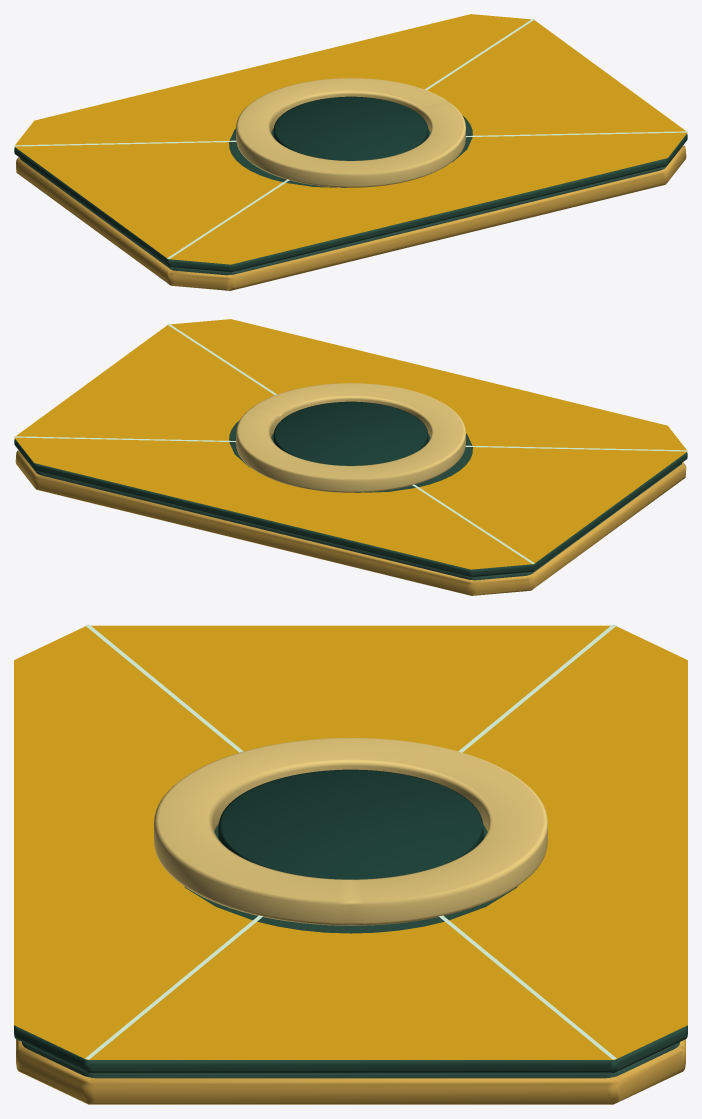
The model's file is neijiang_center_compass_v2.glb.
3 views of the same model, one above another, from view 1: azimuth 30°, elevation 25°; view 2: azimuth 150°, elevation 25°; view 3: azimuth 270°, elevation 25° (orthographic). The views are drawn at different scales.
Visible parts, largest first — view 1: DirectionActive2, DirectionActive0, DirectionActive1, DirectionActive3, CounterSingleGoldRing, CenterLowerGoldTrim, CounterNumberPlate, DirectionBase0, CenterRecessBed; view 2: DirectionActive0, DirectionActive1, DirectionActive2, DirectionActive3, CounterSingleGoldRing, CenterLowerGoldTrim, CounterNumberPlate, DirectionBase0, CenterRecessBed; view 3: DirectionActive0, DirectionActive2, DirectionActive1, DirectionActive3, CounterSingleGoldRing, CounterNumberPlate, CenterLowerGoldTrim, DirectionBase0, CenterRecessBed, DirectionSeparator1, DirectionSeparator2, DirectionSeparator0 (+1 smaller).
Boxes of the visible parts, x1,y1,x2,y2 form: DirectionActive2: (168,133,685,264); DirectionActive0: (15,14,531,145); DirectionActive1: (423,15,687,157); DirectionActive3: (15,121,282,263); CounterSingleGoldRing: (236,78,465,187); CenterLowerGoldTrim: (16,145,686,290); CounterNumberPlate: (273,96,428,160); DirectionBase0: (14,115,687,272); CenterRecessBed: (20,148,680,275); DirectionActive0: (14,437,533,569); DirectionActive1: (15,319,279,457); DirectionActive2: (175,319,686,450); DirectionActive3: (419,427,686,568); CounterSingleGoldRing: (236,383,465,492); CenterLowerGoldTrim: (15,450,686,595); CounterNumberPlate: (273,401,428,465); DirectionBase0: (14,420,687,577); CenterRecessBed: (21,453,681,580); DirectionActive0: (449,626,687,1059); DirectionActive2: (14,626,252,1052); DirectionActive1: (14,921,678,1059); DirectionActive3: (24,625,684,754); CounterSingleGoldRing: (154,738,547,925); CounterNumberPlate: (218,769,483,879); CenterLowerGoldTrim: (16,1039,685,1104); DirectionBase0: (14,825,687,1073); CenterRecessBed: (22,1042,679,1078); DirectionSeparator1: (439,915,616,1059); DirectionSeparator2: (85,915,262,1059); DirectionSeparator0: (458,624,616,752).
Size of the model in its own units: 2.64 by 0.201 by 1.73.
